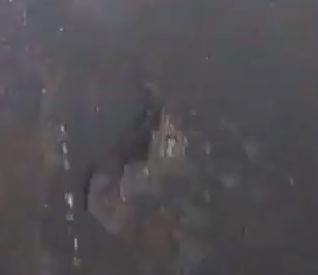Berlubang: (60, 92, 211, 258)
